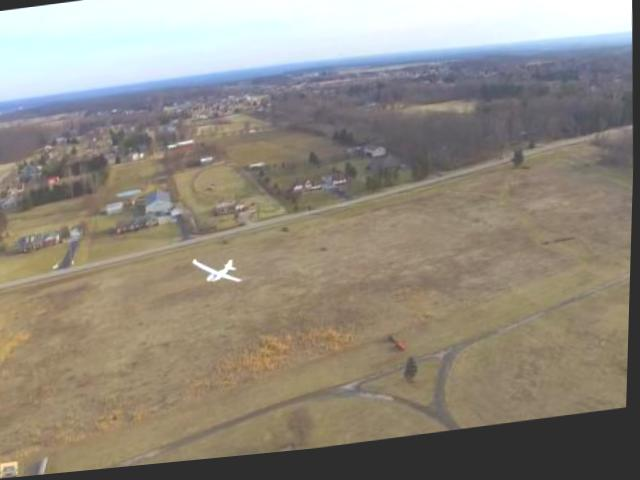uav: (188, 246, 252, 305)
